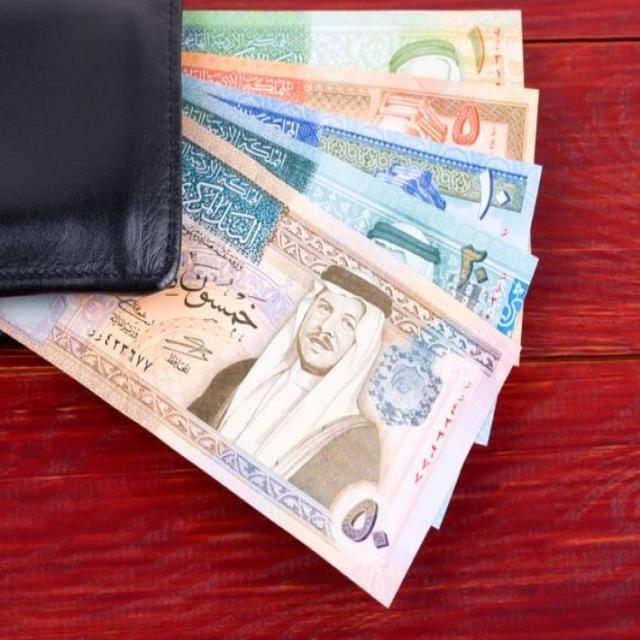1-dinar: (179, 6, 525, 86)
10-dinar: (181, 70, 540, 253)
20-dinar: (180, 77, 543, 339)
5-dinar: (180, 46, 542, 165)
50-dinar: (0, 110, 521, 606)
